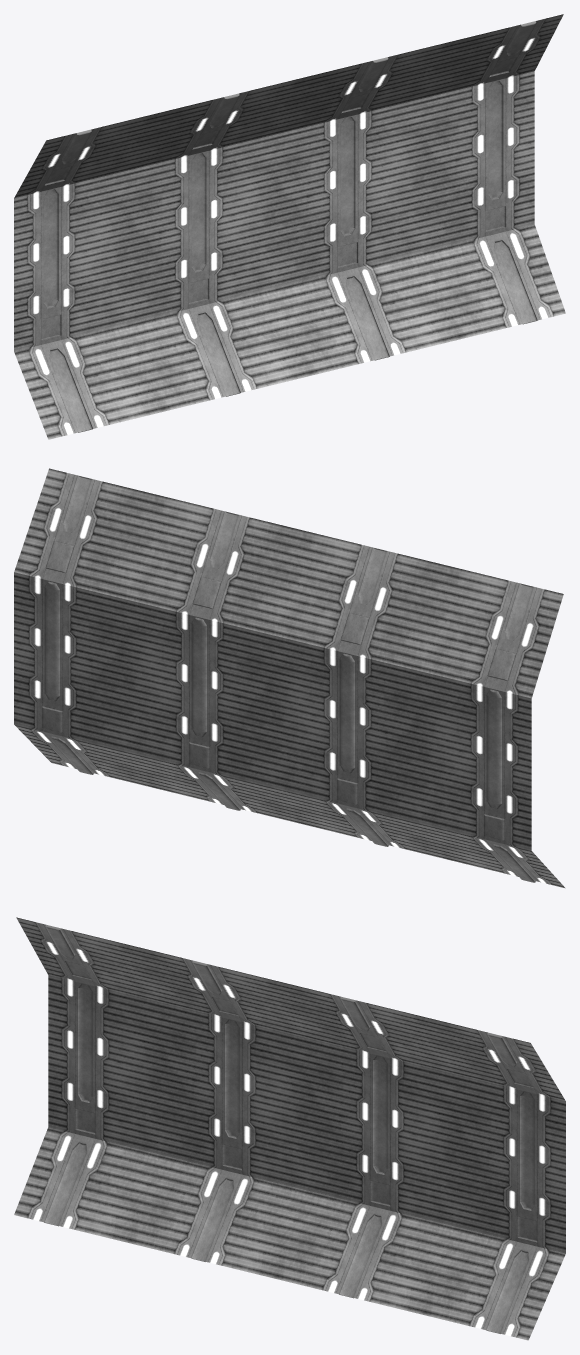
The model's file is Wall_Clean_w_Bottom_and_Top.fbx.
3 views of the same model, one above another, from view 1: azimuth 30°, elevation 25°; view 2: azimuth 150°, elevation 25°; view 3: azimuth 330°, elevation 25° (orthographic).
Visible parts, largest first — view 1: Wall_Clean_w_Bottom_and_Top; view 2: Wall_Clean_w_Bottom_and_Top; view 3: Wall_Clean_w_Bottom_and_Top.
Boxes of the visible parts, x1,y1,x2,y2 form: Wall_Clean_w_Bottom_and_Top: (14,14,565,439); Wall_Clean_w_Bottom_and_Top: (14,468,565,888); Wall_Clean_w_Bottom_and_Top: (14,917,565,1340).
Bounding box in the file's own units: 754 × 414 × 89.9.
Materials: 1 (1 with a texture image).
